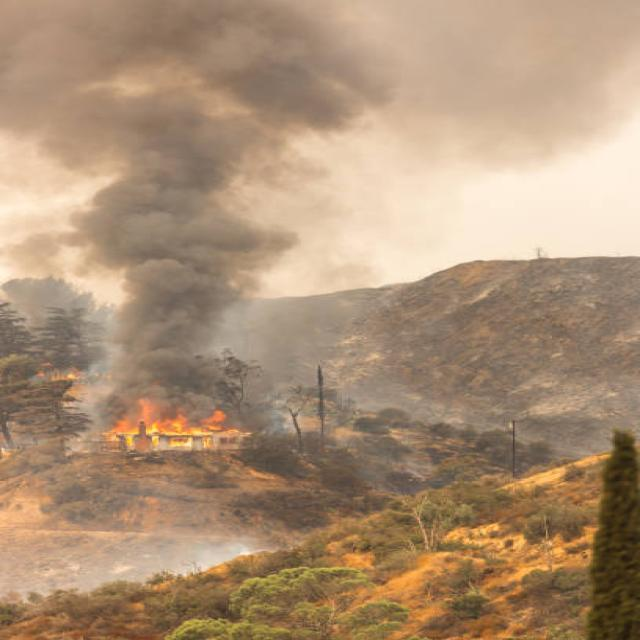Fire: (123, 403, 260, 459)
Smoke: (0, 0, 310, 398)
